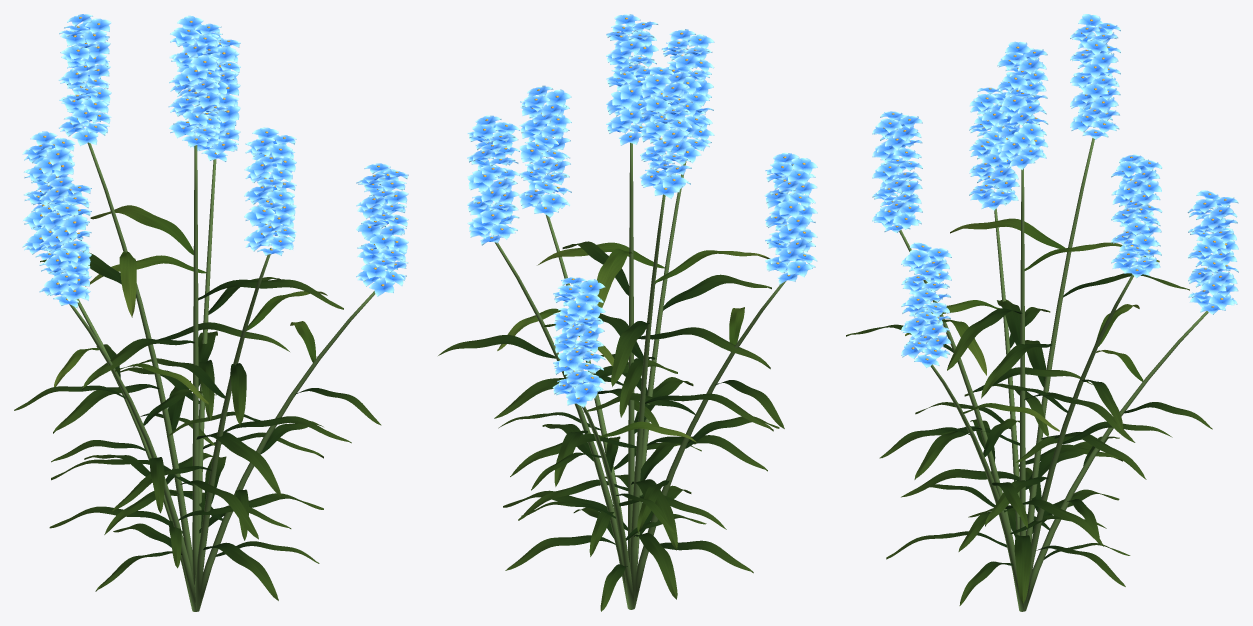
The model's file is lavender-dream-10.glb.
3 renders of one model, left to right at view 1: azimuth 30°, elevation 25°; view 2: azimuth 150°, elevation 25°; view 3: azimuth 270°, elevation 25°, orthographic. The views are drawn at different scales.
Visible parts, largest first — view 1: lavender_dream_stage_10_lavender_petal.020, lavender_dream_stage_10_leaf_veins.020, lavender_dream_stage_10_stem_fibres.020, lavender_dream_stage_10_young_leaf.020, lavender_dream_stage_10_pollen_granules.020; view 2: lavender_dream_stage_10_lavender_petal.020, lavender_dream_stage_10_leaf_veins.020, lavender_dream_stage_10_stem_fibres.020, lavender_dream_stage_10_young_leaf.020, lavender_dream_stage_10_pollen_granules.020; view 3: lavender_dream_stage_10_lavender_petal.020, lavender_dream_stage_10_leaf_veins.020, lavender_dream_stage_10_stem_fibres.020, lavender_dream_stage_10_young_leaf.020, lavender_dream_stage_10_pollen_granules.020.
Boxes of the visible parts, x1,y1,x2,y2 form: lavender_dream_stage_10_lavender_petal.020: (22, 14, 408, 308); lavender_dream_stage_10_leaf_veins.020: (14, 251, 381, 600); lavender_dream_stage_10_stem_fibres.020: (69, 142, 375, 611); lavender_dream_stage_10_young_leaf.020: (54, 205, 327, 404); lavender_dream_stage_10_pollen_granules.020: (37, 17, 398, 300); lavender_dream_stage_10_lavender_petal.020: (467, 14, 817, 407); lavender_dream_stage_10_leaf_veins.020: (438, 241, 784, 611); lavender_dream_stage_10_stem_fibres.020: (495, 143, 786, 609); lavender_dream_stage_10_young_leaf.020: (497, 242, 769, 442); lavender_dream_stage_10_pollen_granules.020: (477, 17, 805, 398); lavender_dream_stage_10_lavender_petal.020: (872, 14, 1238, 368); lavender_dream_stage_10_leaf_veins.020: (846, 273, 1212, 605); lavender_dream_stage_10_stem_fibres.020: (899, 138, 1208, 611); lavender_dream_stage_10_young_leaf.020: (905, 218, 1159, 431); lavender_dream_stage_10_pollen_granules.020: (883, 19, 1227, 360).
Bounding box in the file's own units: 0.4041 × 0.6888 × 0.438.
Materials: 5 (3 with a texture image).
